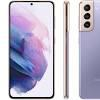Smartphone: (8, 2, 55, 98), (80, 2, 100, 100), (62, 0, 70, 98)
